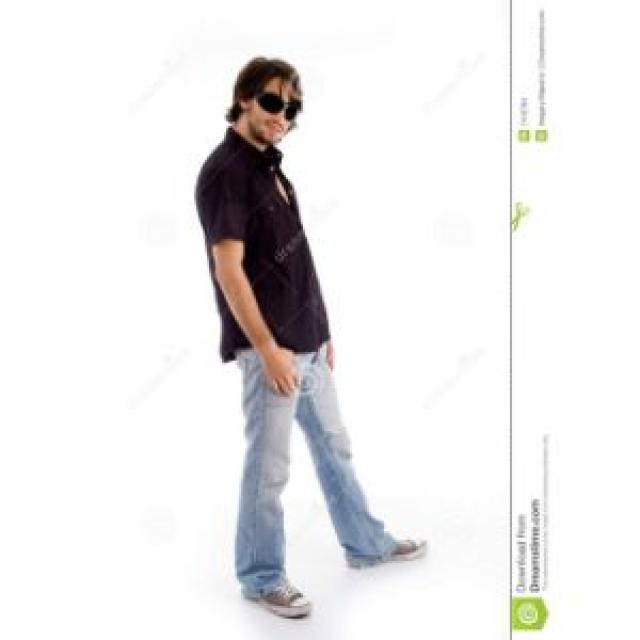adult: (186, 15, 435, 623)
